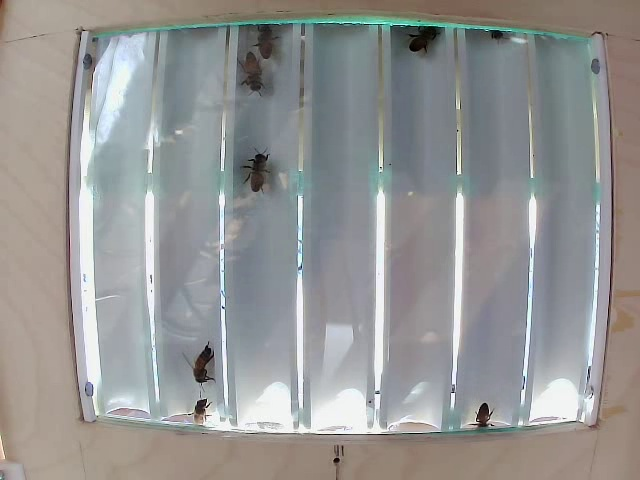bee: (248, 144, 289, 210), (238, 61, 279, 105), (179, 343, 228, 379), (249, 19, 286, 61)
